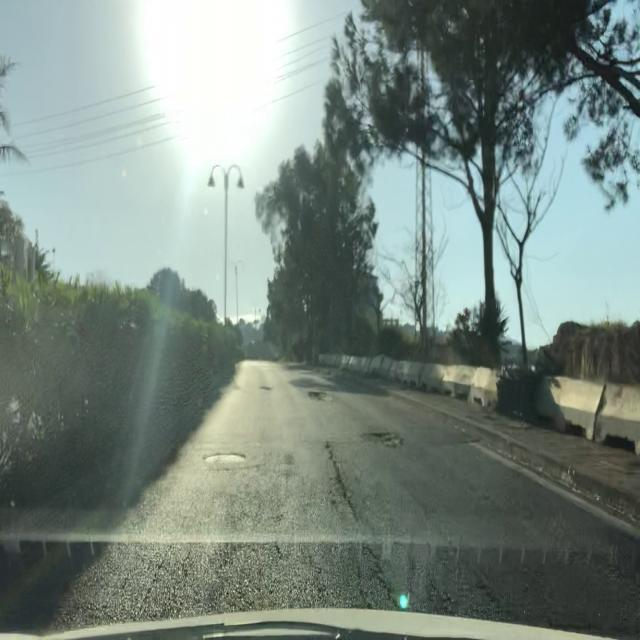Buraco: (358, 430, 406, 450), (201, 452, 249, 466), (306, 390, 334, 403)
